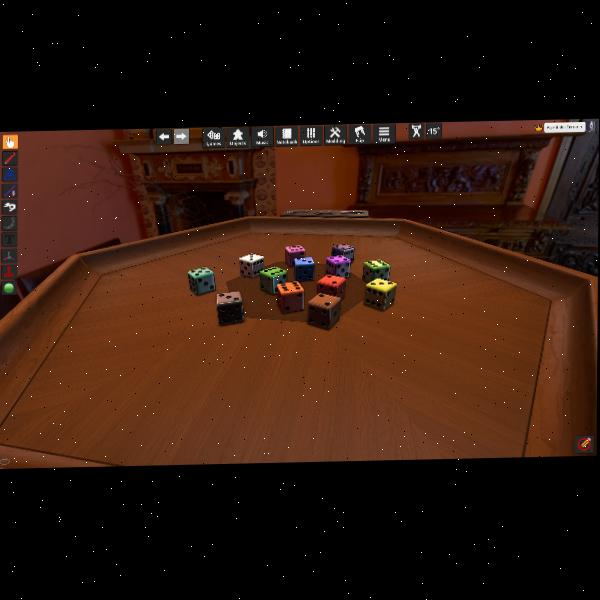d6: (307, 292, 338, 329), (364, 278, 397, 311), (216, 291, 244, 325), (259, 266, 287, 296), (276, 282, 302, 313), (187, 266, 214, 295), (317, 274, 345, 301), (239, 252, 265, 279), (362, 258, 390, 283), (325, 254, 351, 279), (284, 244, 306, 267), (331, 243, 355, 264), (293, 257, 313, 281)
